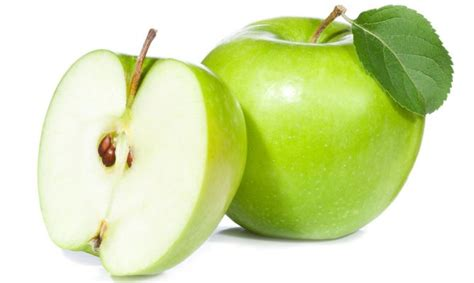apple: (196, 12, 428, 245)
